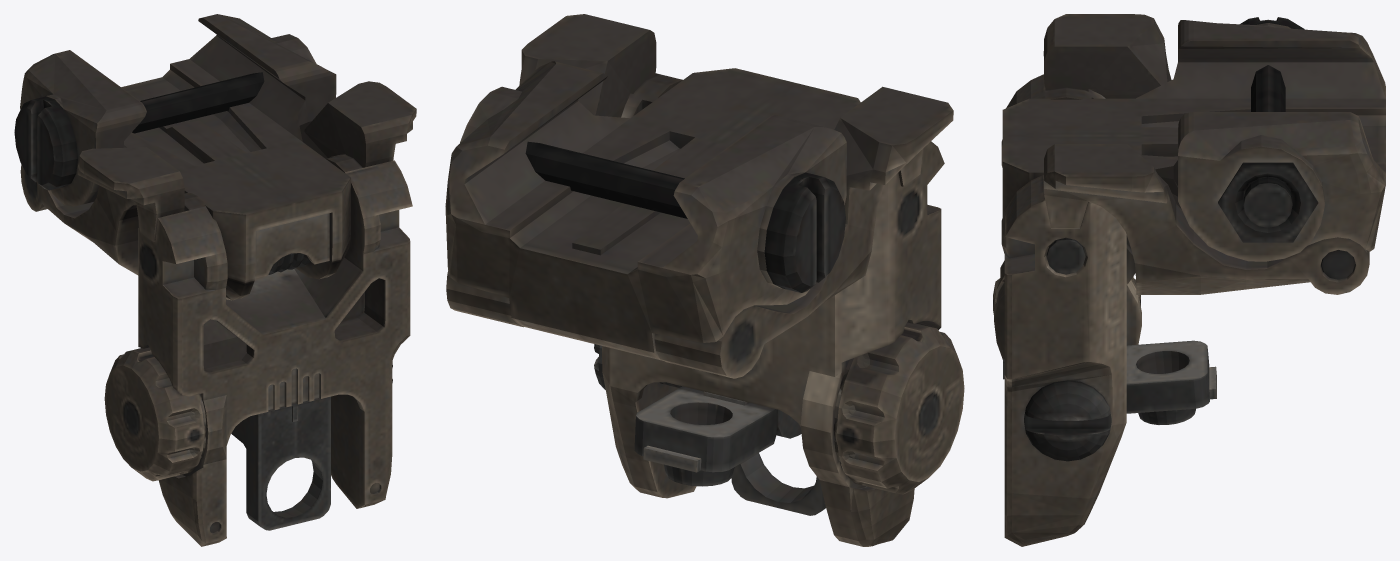
The picture shows the model from 3 angles, left to right: view 1: azimuth 30°, elevation 25°; view 2: azimuth 150°, elevation 25°; view 3: azimuth 270°, elevation 25°; orthographic projection. The views are drawn at different scales.
Parts seen in each view (by area): view 1: TW_5c18b9192e2216398b5a8104_PZ_Import; view 2: TW_5c18b9192e2216398b5a8104_PZ_Import; view 3: TW_5c18b9192e2216398b5a8104_PZ_Import.
Boxes of the visible parts, box(x1,y1,x2,y2) form: TW_5c18b9192e2216398b5a8104_PZ_Import: box(14, 14, 416, 546); TW_5c18b9192e2216398b5a8104_PZ_Import: box(445, 14, 964, 546); TW_5c18b9192e2216398b5a8104_PZ_Import: box(993, 14, 1385, 546).
Bounding box in the file's own units: 0.0209 × 0.0214 × 0.0254.
Materials: 1 (1 with a texture image).
